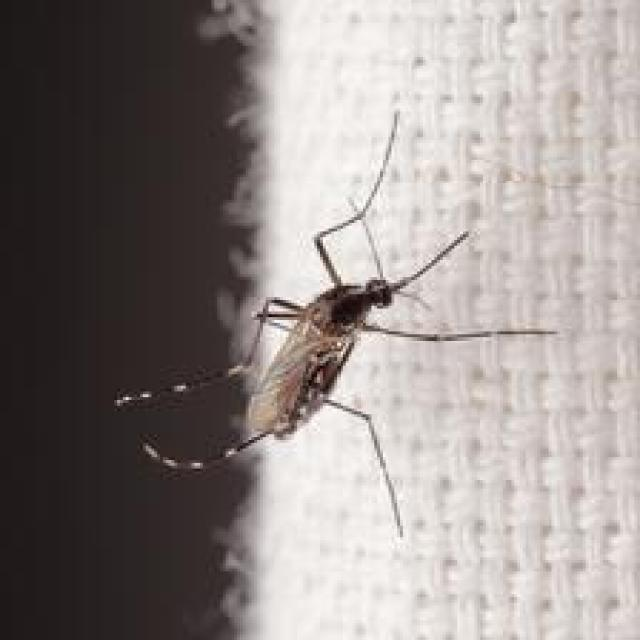Aedes albopictus: (113, 107, 558, 539)
